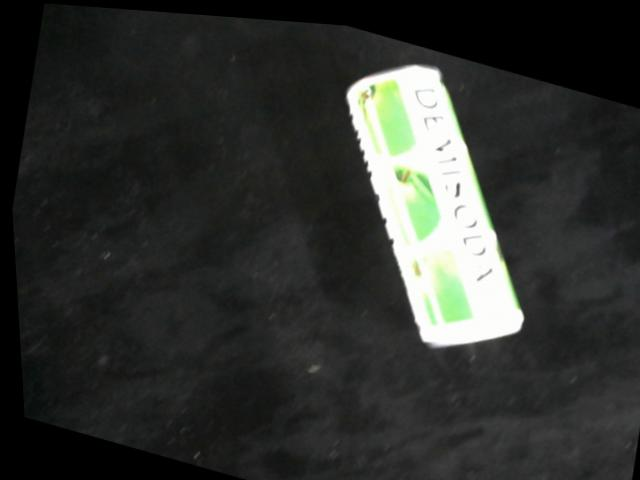can: (343, 56, 522, 344)
